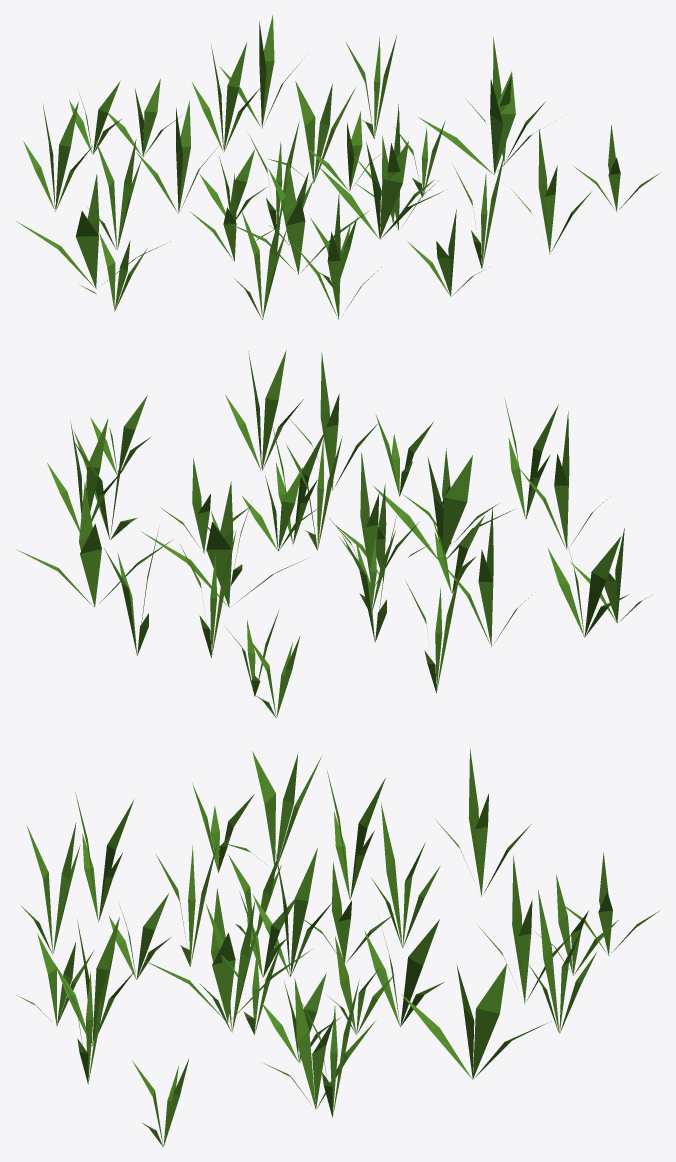
The model's file is grass_01.glb.
The picture shows the model from 3 angles, top to bottom: view 1: azimuth 30°, elevation 25°; view 2: azimuth 150°, elevation 25°; view 3: azimuth 270°, elevation 25°; orthographic projection. The views are drawn at different scales.
Parts seen in each view (by area): view 1: grass.038, grass.007, grass.027, grass.028, grass.040, grass.041, grass.018, grass.004, grass.005, grass.020, grass.031, grass.010 (+17 smaller); view 2: grass.018, grass.028, grass.027, grass.008, grass.020, grass.021, grass.031, grass.010, grass.011, grass.025, grass.015, grass.022 (+16 smaller); view 3: grass.008, grass.027, grass.007, grass.028, grass.015, grass.038, grass.004, grass.005, grass.011, grass.041, grass.040, grass.025 (+18 smaller).
Boxes of the visible parts, box(x1,y1,x2,y2) form: grass.038: box(319, 141, 443, 239); grass.007: box(418, 71, 544, 174); grass.027: box(16, 174, 170, 288); grass.028: box(267, 81, 355, 183); grass.040: box(192, 43, 259, 152); grass.041: box(23, 101, 92, 211); grass.018: box(229, 160, 369, 274); grass.004: box(136, 100, 218, 213); grass.005: box(219, 15, 302, 128); grass.020: box(511, 129, 591, 254); grass.031: box(234, 207, 287, 319); grass.010: box(87, 139, 141, 249); grass.018: box(373, 455, 513, 560); grass.028: box(141, 481, 309, 607); grass.027: box(548, 536, 629, 637); grass.008: box(16, 482, 173, 607); grass.020: box(225, 350, 303, 470); grass.021: box(47, 418, 125, 532); grass.031: box(518, 411, 610, 549); grass.010: box(442, 508, 532, 647); grass.011: box(287, 352, 377, 490); grass.025: box(504, 399, 558, 519); grass.015: box(329, 453, 418, 585); grass.022: box(242, 467, 319, 551); grass.008: box(401, 964, 551, 1079); grass.027: box(224, 751, 321, 870); grass.007: box(261, 978, 375, 1109); grass.028: box(364, 919, 444, 1026); grass.015: box(252, 848, 333, 976); grass.038: box(144, 888, 312, 1022); grass.004: box(371, 803, 440, 947); grass.005: box(528, 889, 597, 1033); grass.011: box(54, 917, 134, 1046); grass.041: box(434, 748, 531, 896); grass.040: box(478, 855, 575, 1003); grass.025: box(20, 822, 80, 953).
Size of the model in its own units: 3.54 by 0.7398 by 2.97.
